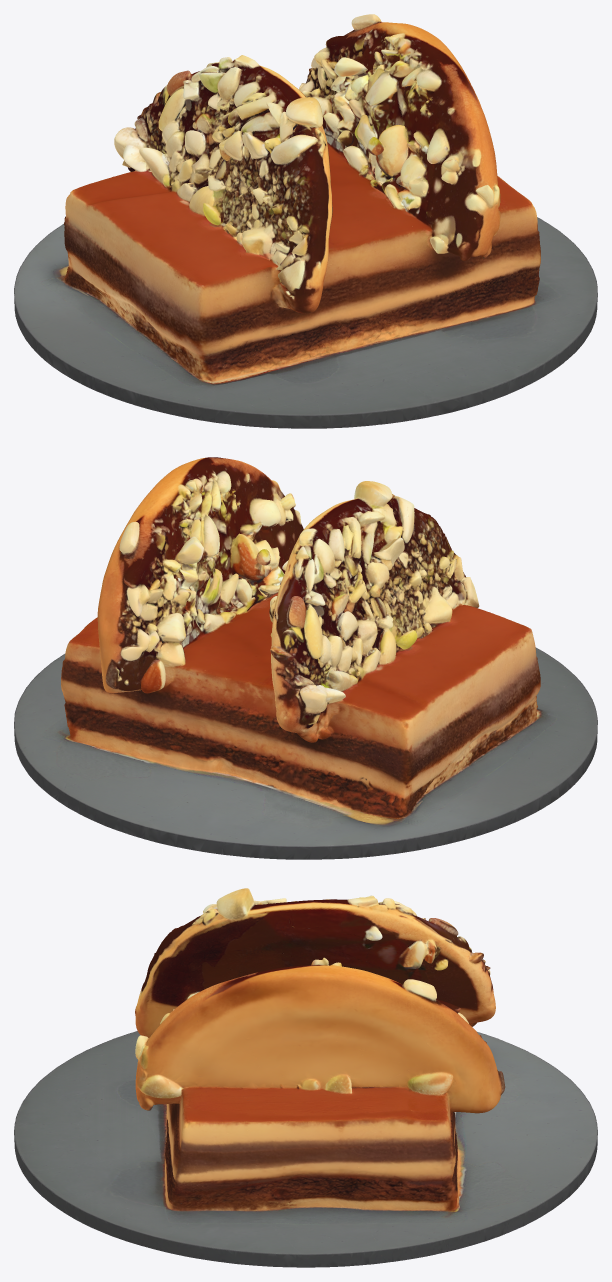
File: Cheesy-Green-Lasagne.glb
3 renders of one model, top to bottom at view 1: azimuth 30°, elevation 25°; view 2: azimuth 150°, elevation 25°; view 3: azimuth 270°, elevation 25°, orthographic.
Size of the model in its own units: 0.5695 by 0.2556 by 0.5695.
Materials: 1 (1 with a texture image).
